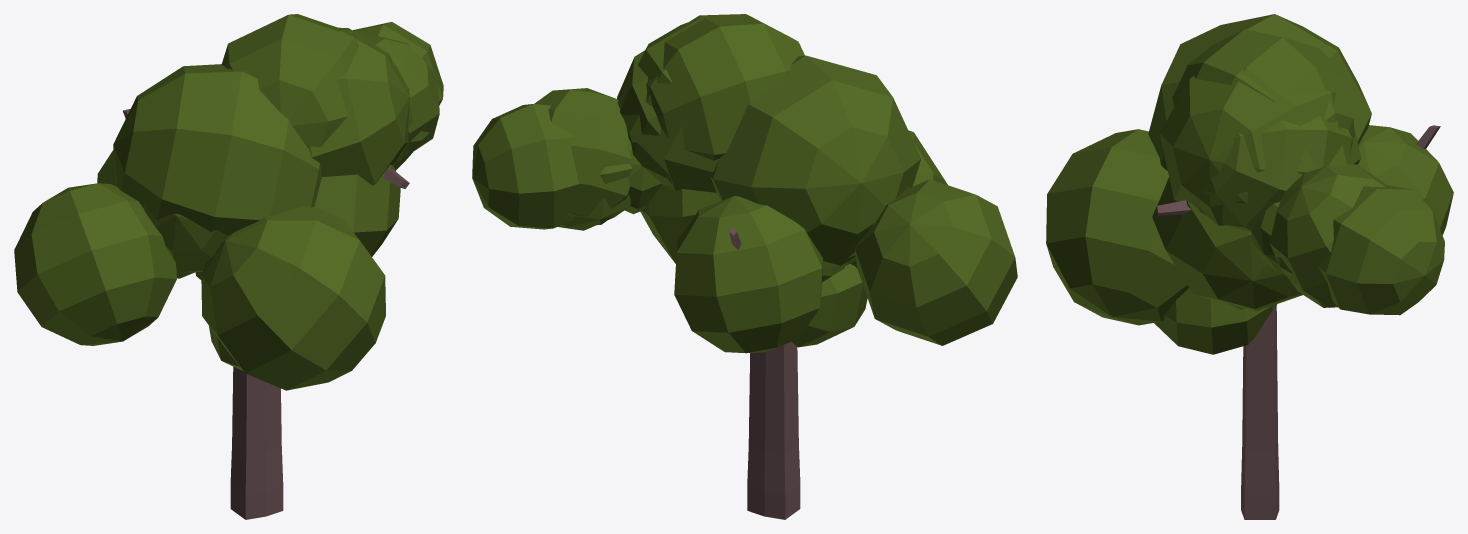
Rendered from pohon2.fbx.
3 renders of one model, left to right at view 1: azimuth 30°, elevation 25°; view 2: azimuth 150°, elevation 25°; view 3: azimuth 270°, elevation 25°, orthographic. The views are drawn at different scales.
Visible parts, largest first — view 1: Cube.002; view 2: Cube.002; view 3: Cube.002.
Boxes of the visible parts, <box> form: Cube.002: <box>14,14,443,519</box>; Cube.002: <box>472,14,1017,519</box>; Cube.002: <box>1046,14,1453,519</box>.
Bounding box in the file's own units: 475 × 467 × 349.
